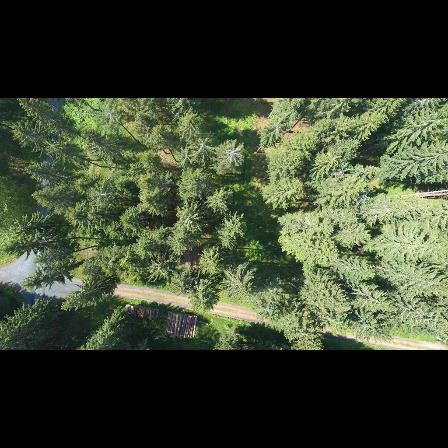Sick: (220, 139, 245, 168), (329, 161, 353, 183)
